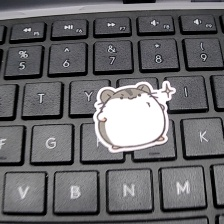mouse: (93, 79, 176, 152)
